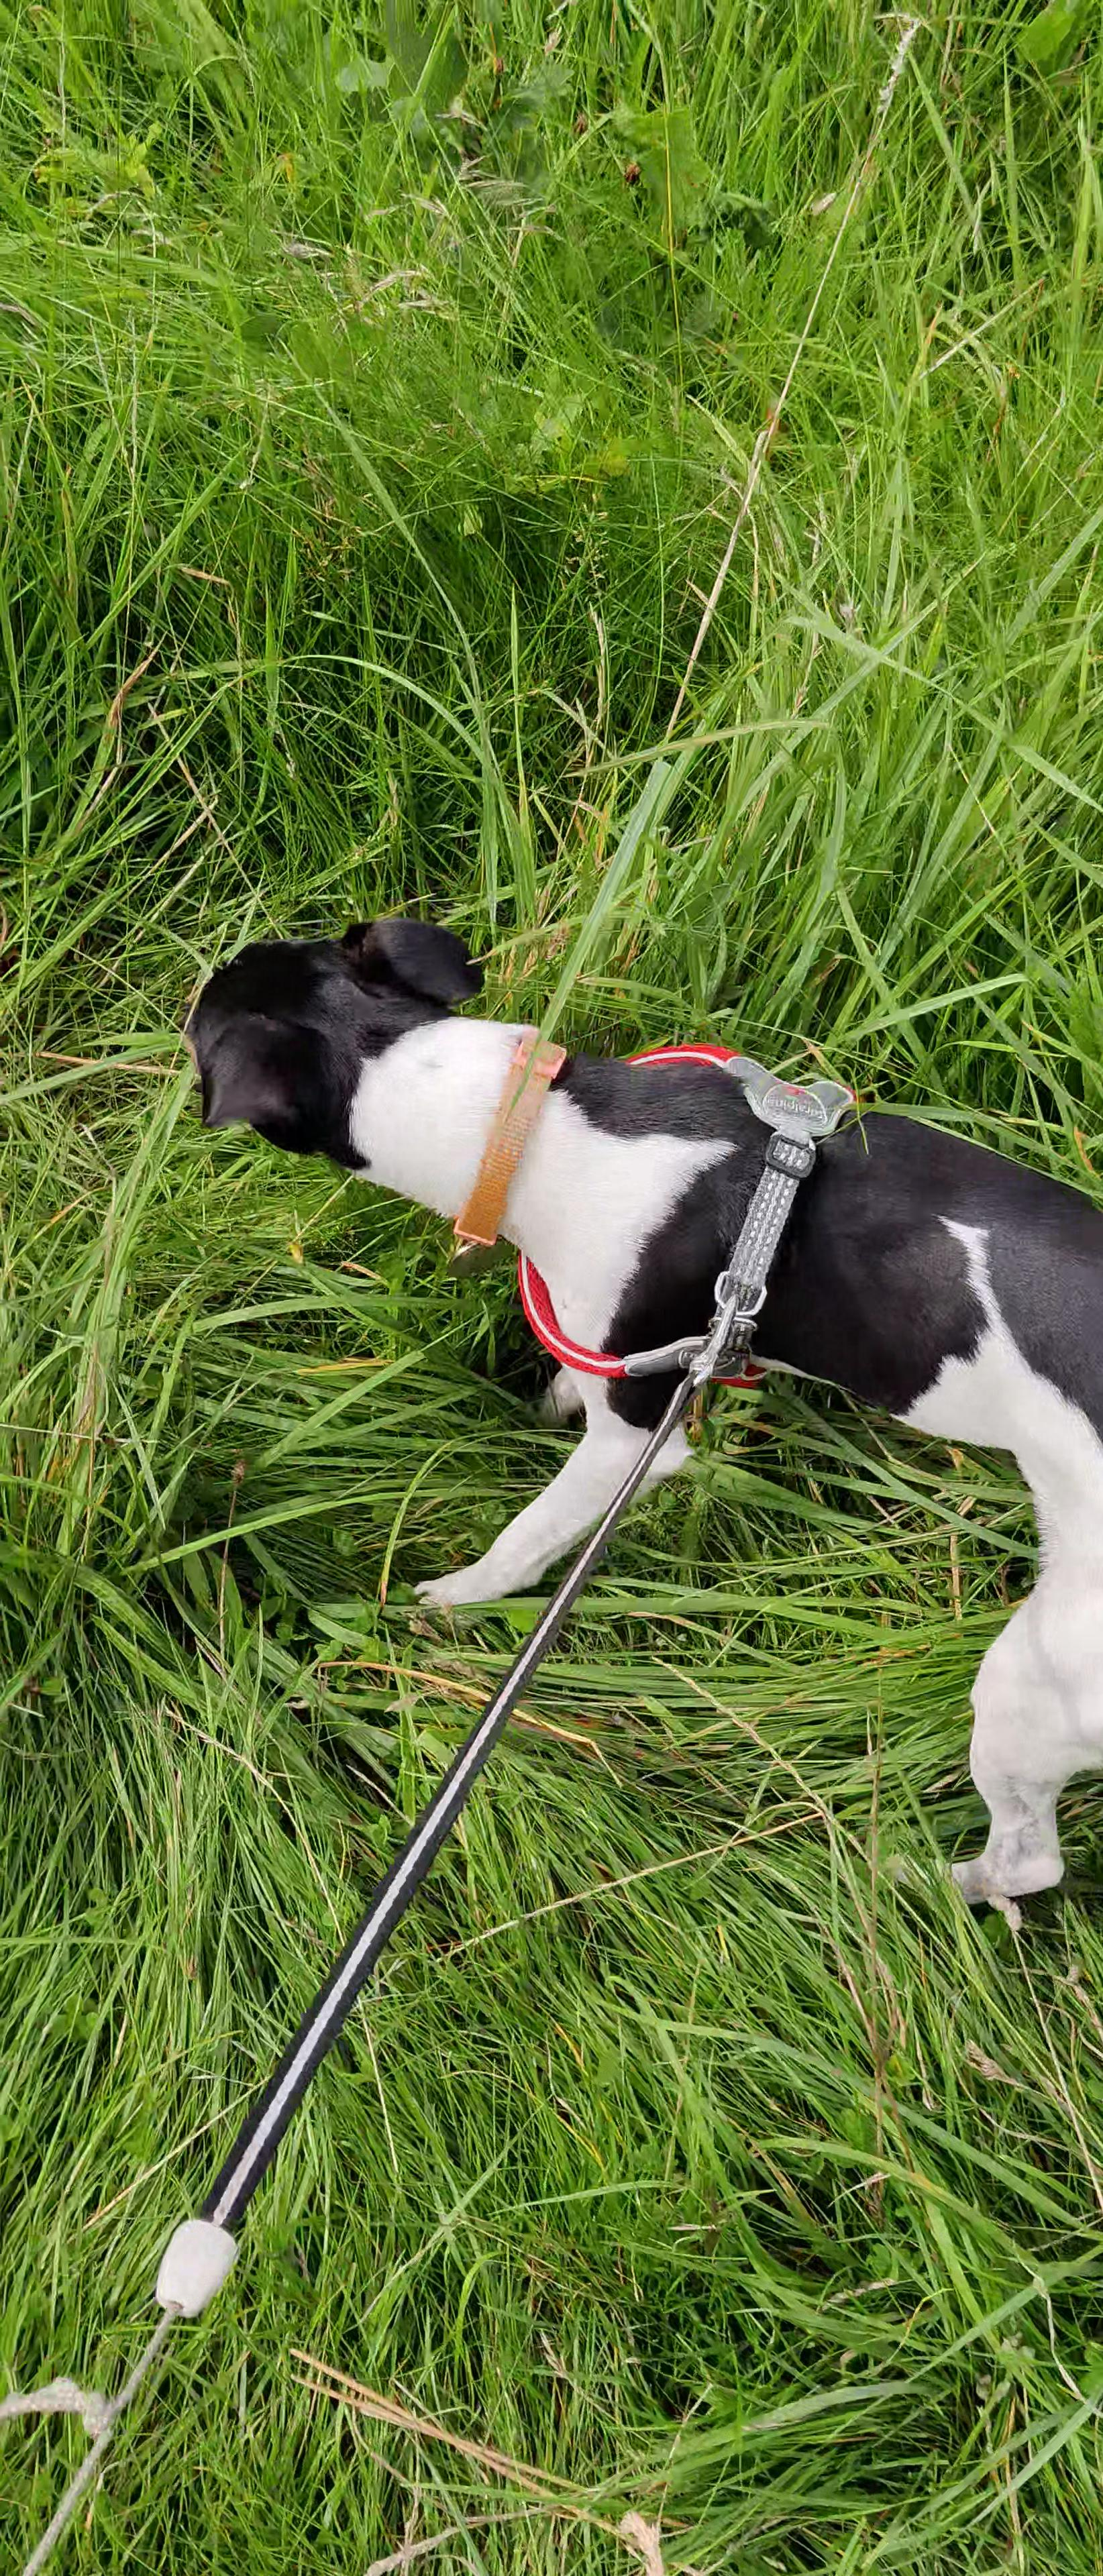Dog: (161, 884, 1103, 1922)
